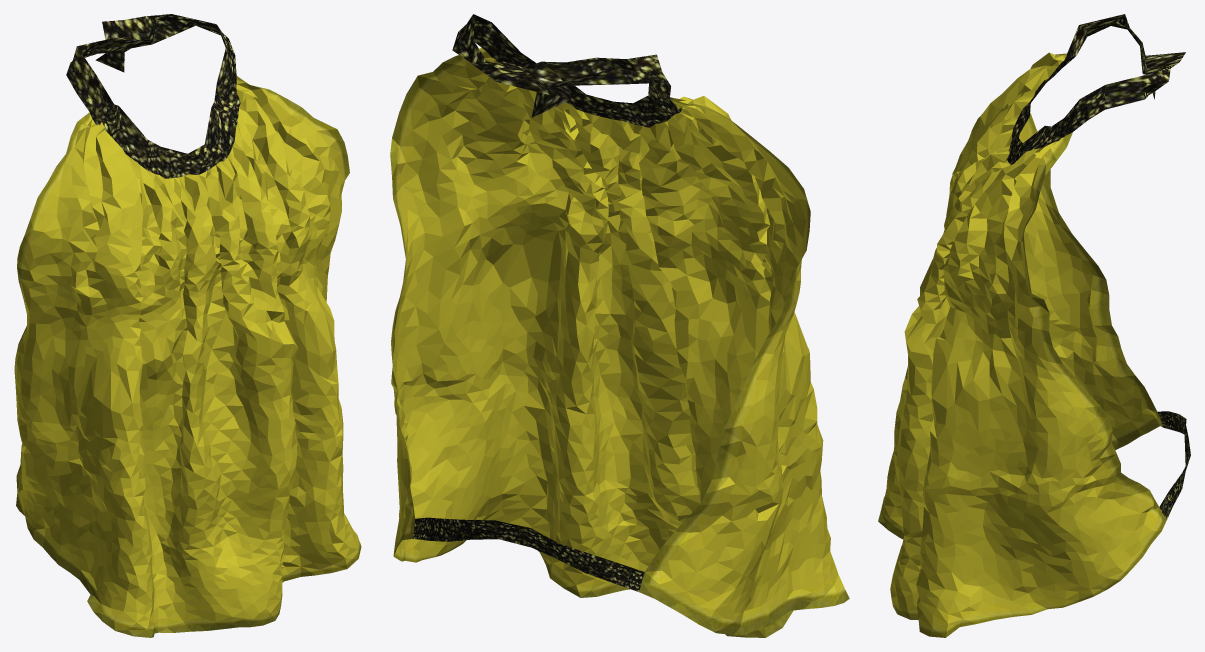
File: mhw_elvs_disco_top2.glb
3 views of the same model, side by side, from view 1: azimuth 30°, elevation 25°; view 2: azimuth 150°, elevation 25°; view 3: azimuth 270°, elevation 25° (orthographic). The views are drawn at different scales.
Visible parts, largest first — view 1: mhw_elvs_disco_top2; view 2: mhw_elvs_disco_top2; view 3: mhw_elvs_disco_top2.
Boxes of the visible parts, <box> form: mhw_elvs_disco_top2: <box>14,14,361,637</box>; mhw_elvs_disco_top2: <box>390,14,849,637</box>; mhw_elvs_disco_top2: <box>878,14,1190,637</box>.
Bounding box in the file's own units: 0.4136 × 0.6265 × 0.3183.
1 material, 1 textured.
